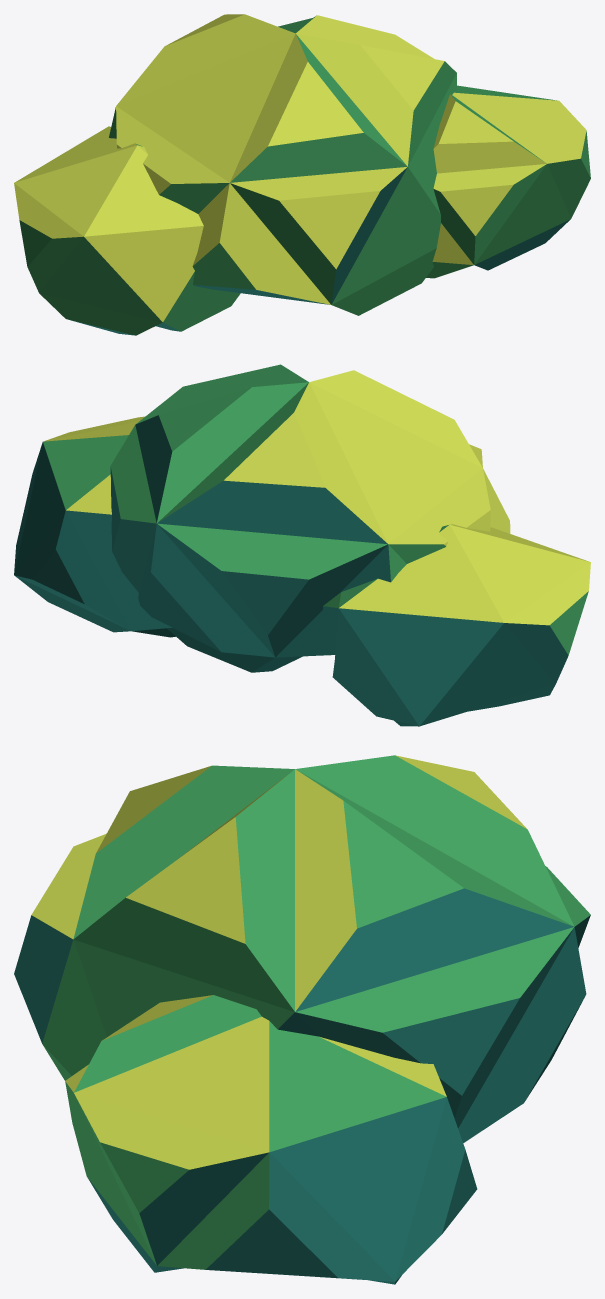
The model's file is Cali_Yuvarlak_v2.fbx.
The picture shows the model from 3 angles, top to bottom: view 1: azimuth 30°, elevation 25°; view 2: azimuth 150°, elevation 25°; view 3: azimuth 270°, elevation 25°; orthographic projection. The views are drawn at different scales.
Visible parts, largest first — view 1: Cali_Yuvarlak; view 2: Cali_Yuvarlak; view 3: Cali_Yuvarlak.
Part boxes in pixels (left/top/right/bottom): Cali_Yuvarlak: left=14, top=14, right=590, bottom=335; Cali_Yuvarlak: left=14, top=364, right=590, bottom=726; Cali_Yuvarlak: left=14, top=755, right=590, bottom=1284.
Bounding box in the file's own units: 108 × 52.25 × 67.27.
